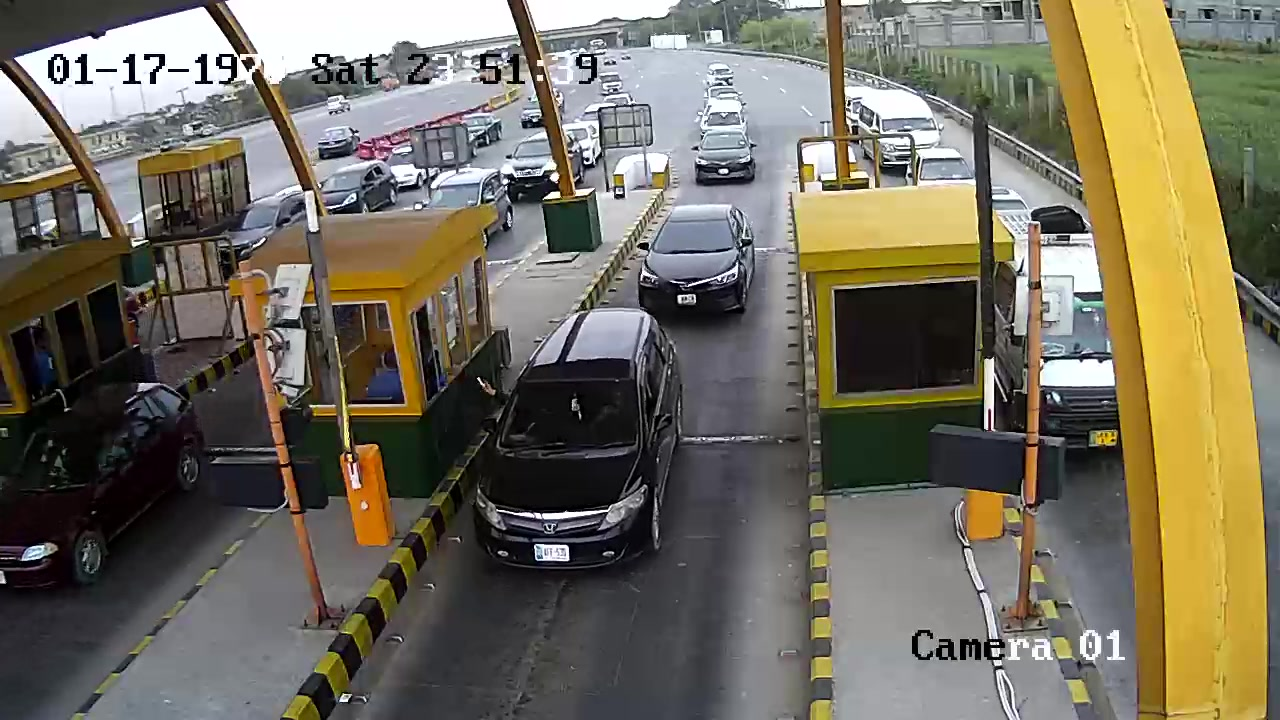F1: (457, 307, 706, 579)
